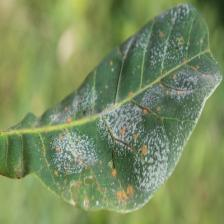red rust: (17, 2, 222, 209)
